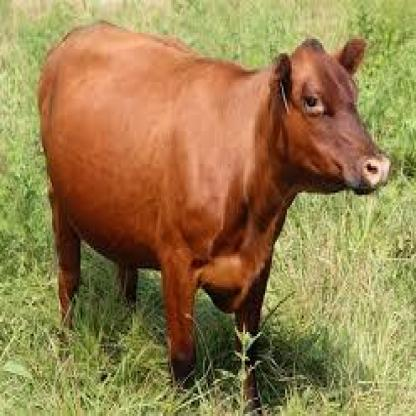cow: (37, 20, 391, 416)
